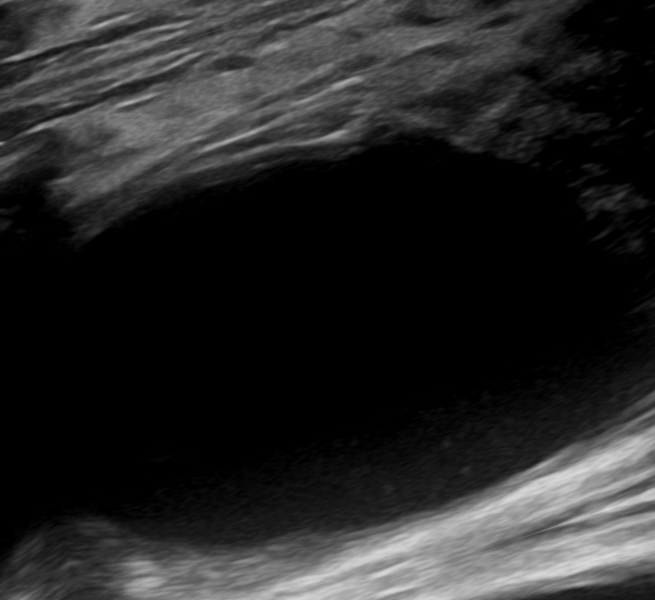Benign: (39, 126, 619, 510)
